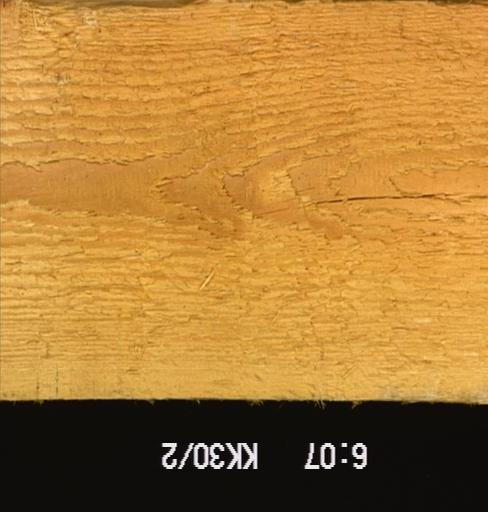split: (312, 195, 486, 207)
wave: (27, 0, 202, 9), (423, 0, 486, 7)
